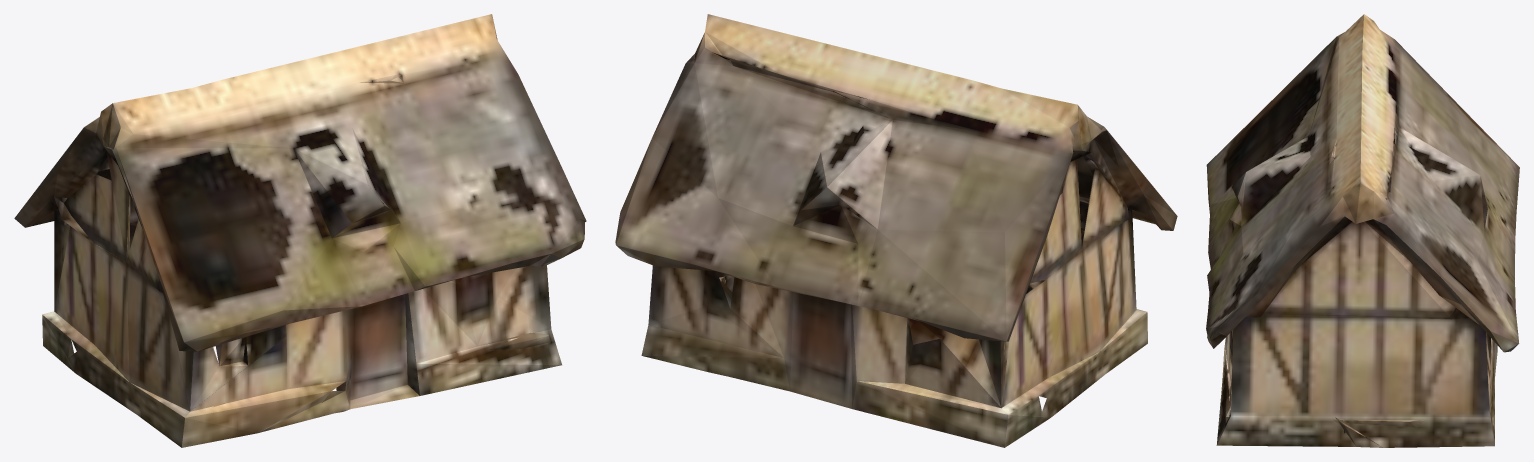
The model's file is ga3_house_lod2.glb.
3 renders of one model, left to right at view 1: azimuth 30°, elevation 25°; view 2: azimuth 150°, elevation 25°; view 3: azimuth 270°, elevation 25°, orthographic. The views are drawn at different scales.
Parts seen in each view (by area): view 1: ga3_house_lod2; view 2: ga3_house_lod2; view 3: ga3_house_lod2.
Part boxes in pixels (left/top/right/bottom): ga3_house_lod2: left=14, top=14, right=586, bottom=447; ga3_house_lod2: left=615, top=14, right=1177, bottom=447; ga3_house_lod2: left=1206, top=14, right=1519, bottom=447.
Size of the model in its own units: 7.95 by 5.48 by 5.77.
Materials: 1 (1 with a texture image).
